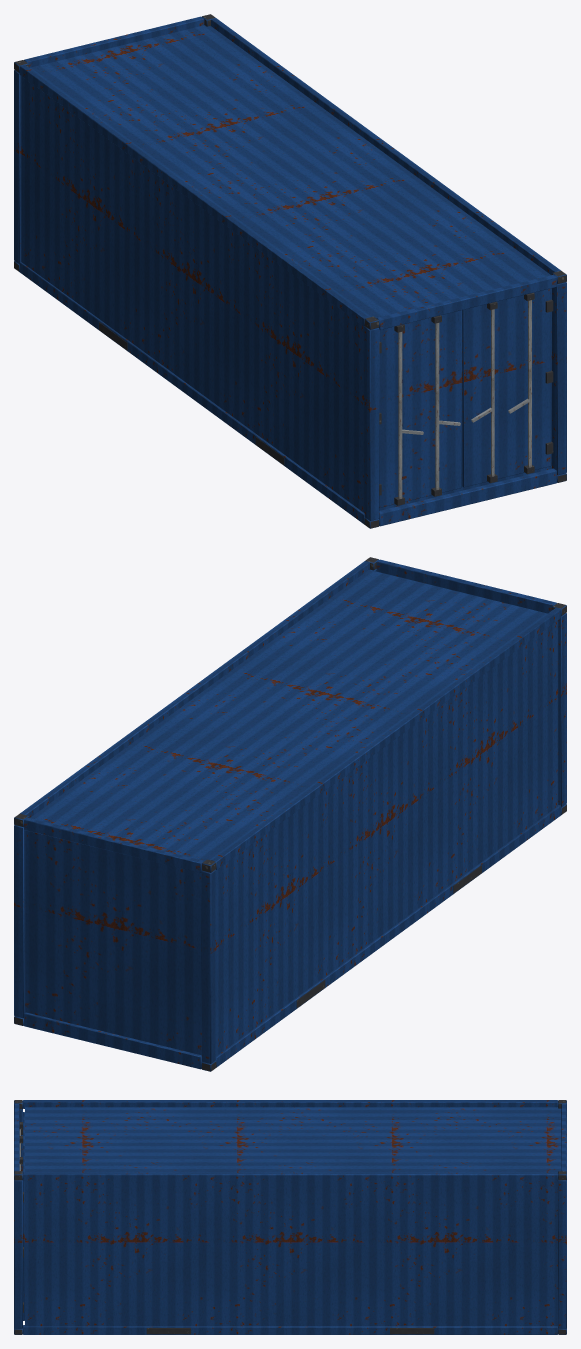
Rendered from container_blue.glb.
3 views of the same model, one above another, from view 1: azimuth 30°, elevation 25°; view 2: azimuth 150°, elevation 25°; view 3: azimuth 270°, elevation 25° (orthographic). The views are drawn at different scales.
Parts seen in each view (by area): view 1: container; view 2: container; view 3: container.
Part boxes in pixels (x1,y1,x2,y2): container: (14,14,566,528); container: (14,557,566,1071); container: (14,1100,566,1334).
Size of the model in its own units: 3.21 by 3.2 by 10.
Materials: 3 (3 with a texture image).
